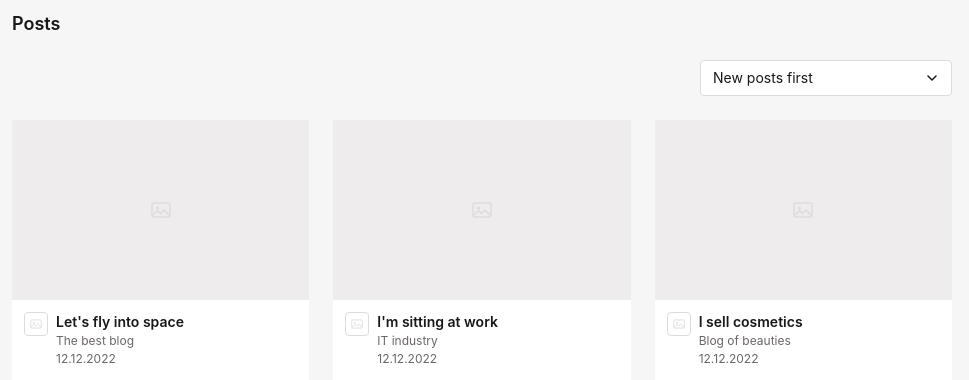
Scenario: PostsPage › reorders posts when the sorting changes
The image size is (969, 380).
(page scrolled)
Check: the link "Let's fly into space" is shown, box [56, 312, 184, 332]
Select "By title" in the dropdown named "Posts sorting": [826, 78] box [700, 60, 952, 96]
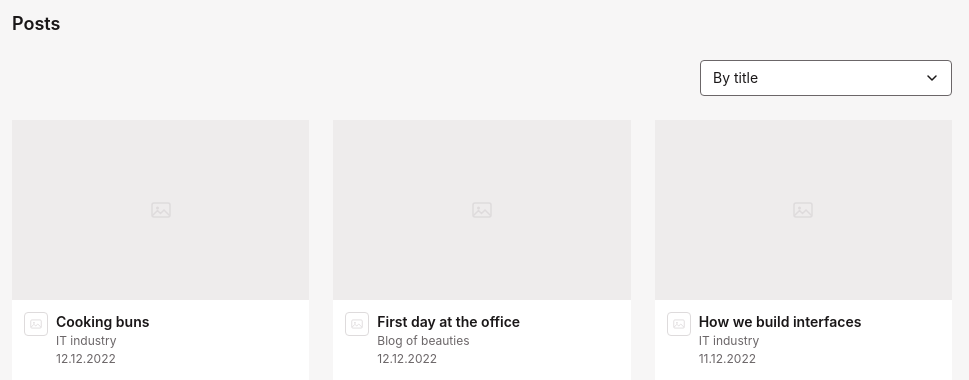
Check: the link "Cooking buns" is shown, box [56, 312, 149, 332]
